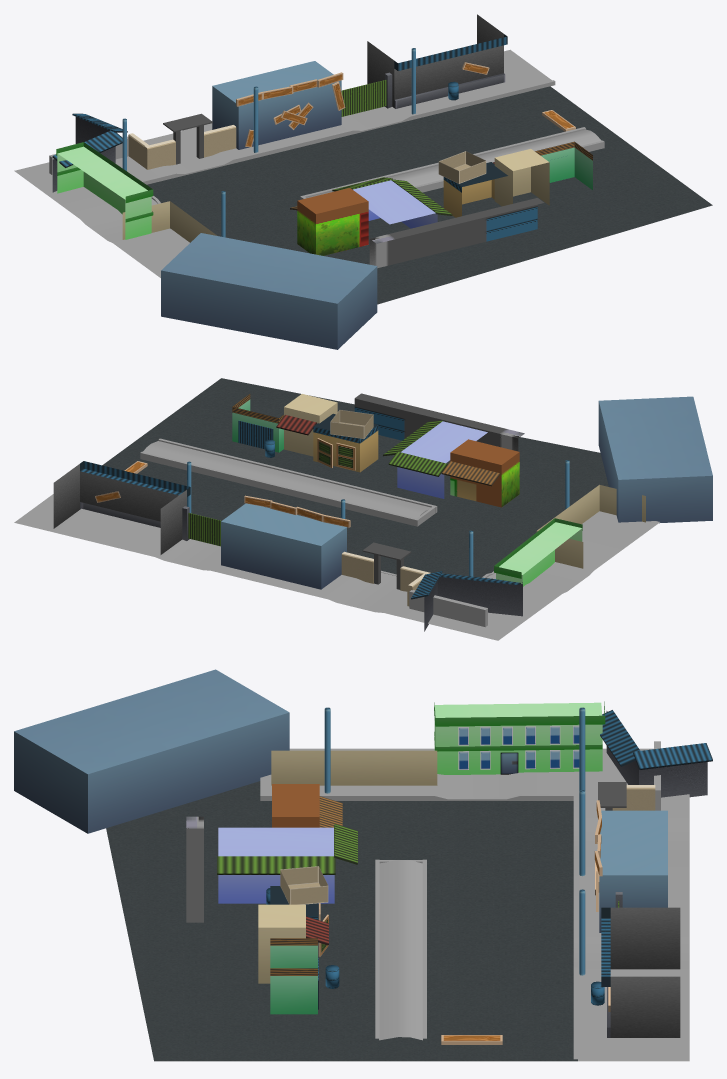
File: level2.fbx
3 renders of one model, top to bottom at view 1: azimuth 30°, elevation 25°; view 2: azimuth 150°, elevation 25°; view 3: azimuth 270°, elevation 25°, orthographic. The views are drawn at different scales.
Parts seen in each view (by area): view 1: polySurface335, pCube96, polySurface336, polySurface329, pCube80, pCube92, polySurface333, polySurface319, pCube90, pCube73, polySurface331, polySurface330 (+13 smaller); view 2: polySurface335, polySurface329, pCube96, polySurface336, pCube80, polySurface333, pCube65, polySurface325, pCube92, polySurface332, pCube90, polySurface319 (+18 smaller); view 3: polySurface335, polySurface336, pCube96, polySurface329, polySurface319, polySurface333, pCube65, pCube80, pCube82, polySurface331, polySurface332, pCube97 (+13 smaller).
Part boxes in pixels (x1=…): polySurface335: x1=147, y1=86, x2=609, y2=257; pCube96: x1=161, y1=233, x2=377, y2=349; polySurface336: x1=332, y1=130, x2=712, y2=304; polySurface329: x1=14, y1=49, x2=551, y2=277; pCube80: x1=212, y1=61, x2=341, y2=149; pCube92: x1=369, y1=198, x2=544, y2=268; polySurface333: x1=367, y1=14, x2=505, y2=108; polySurface319: x1=56, y1=142, x2=153, y2=239; pCube90: x1=297, y1=188, x2=368, y2=255; pCube73: x1=494, y1=149, x2=549, y2=206; polySurface331: x1=353, y1=180, x2=437, y2=228; polySurface330: x1=141, y1=80, x2=555, y2=203; polySurface335: x1=102, y1=451, x2=608, y2=577; polySurface329: x1=14, y1=494, x2=659, y2=640; pCube96: x1=598, y1=396, x2=712, y2=523; polySurface336: x1=121, y1=378, x2=600, y2=519; pCube80: x1=221, y1=503, x2=346, y2=589; polySurface333: x1=53, y1=464, x2=186, y2=554; pCube65: x1=143, y1=441, x2=430, y2=518; polySurface325: x1=140, y1=438, x2=437, y2=526; pCube92: x1=354, y1=393, x2=524, y2=451; polySurface332: x1=411, y1=571, x2=522, y2=631; pCube90: x1=450, y1=439, x2=519, y2=507; polySurface319: x1=494, y1=518, x2=582, y2=586; polySurface335: x1=109, y1=781, x2=577, y2=1061; polySurface336: x1=106, y1=827, x2=419, y2=1061; pCube96: x1=14, y1=669, x2=289, y2=833; polySurface329: x1=260, y1=748, x2=689, y2=1061; polySurface319: x1=434, y1=701, x2=605, y2=774; polySurface333: x1=607, y1=907, x2=680, y2=1037; pCube65: x1=379, y1=860, x2=422, y2=1040; pCube80: x1=599, y1=810, x2=667, y2=932; pCube82: x1=271, y1=750, x2=437, y2=785; polySurface331: x1=218, y1=827, x2=334, y2=903; polySurface332: x1=600, y1=710, x2=712, y2=797; pCube97: x1=270, y1=938, x2=317, y2=1014.
Size of the model in its own units: 778 by 97.52 by 685.
